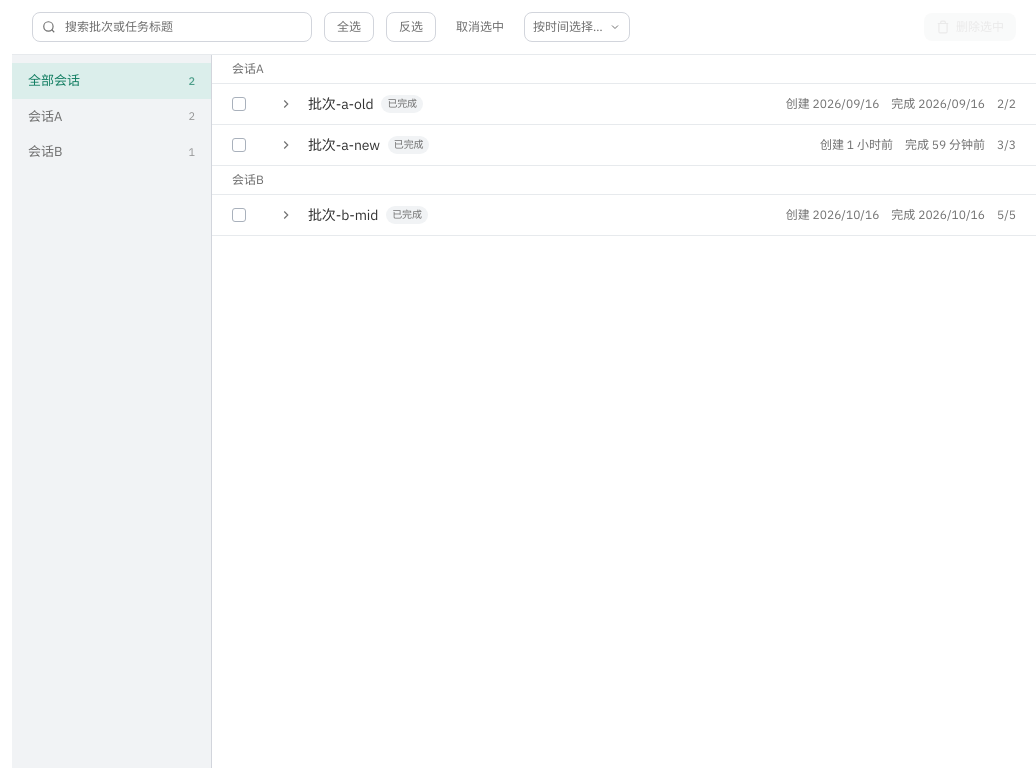
Test: TaskHistoryDialog 删除范围选择 › 取消选中 = 清空全部选中（含当前不可见的会话）
This screenshot has width=1036, height=768.
Expected: the button "全选" is shown, 324,12 -> 374,42
What coordinates should you click on to do the following:
click the button "会话A 2"
I would click on:
 (112, 116)
Its box is 12,98 -> 211,134.
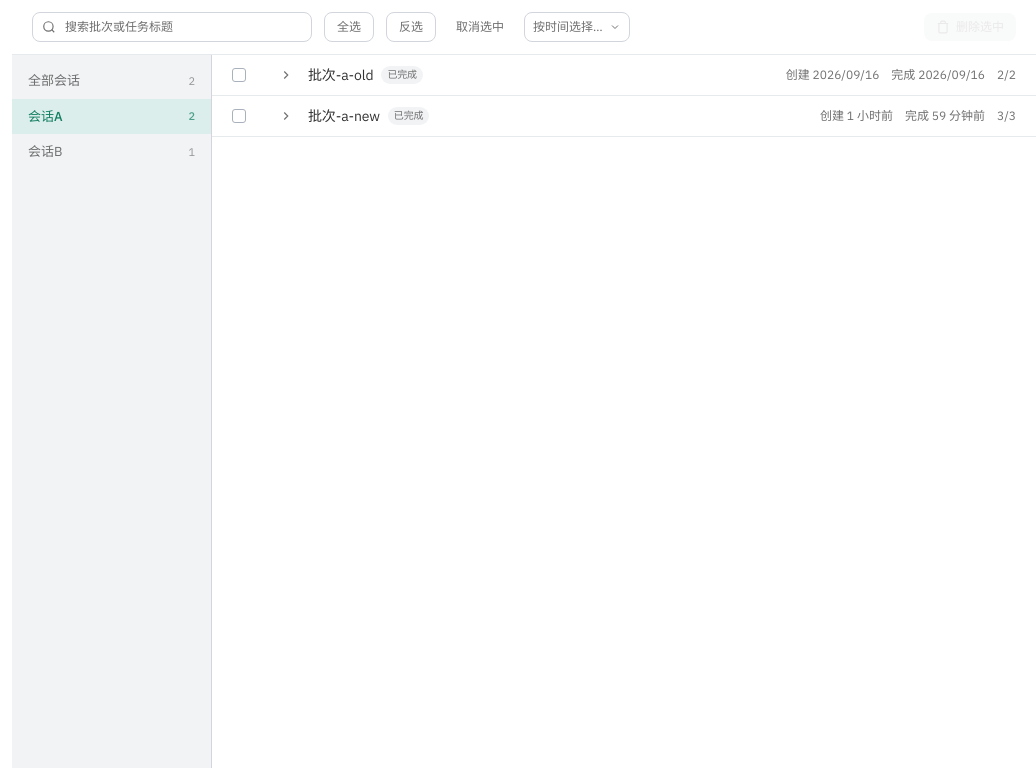
What coordinates should you click on to do the following:
click the button "全选"
I would click on:
 (349, 27)
Its box is 324,12 -> 374,42.
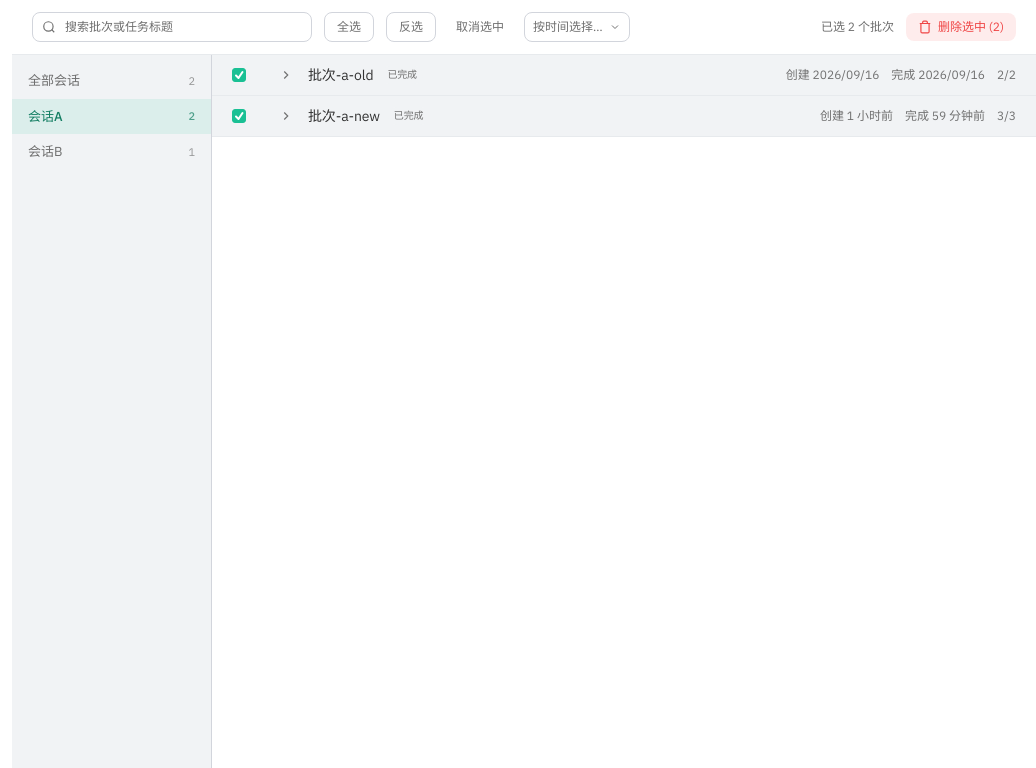
Result: the text "已选 2 个批次" is shown at 821,19 -> 894,35
What coordinates should you click on to do the following:
click the button "会话B 1"
I would click on:
 (112, 152)
Its box is 12,134 -> 211,170.
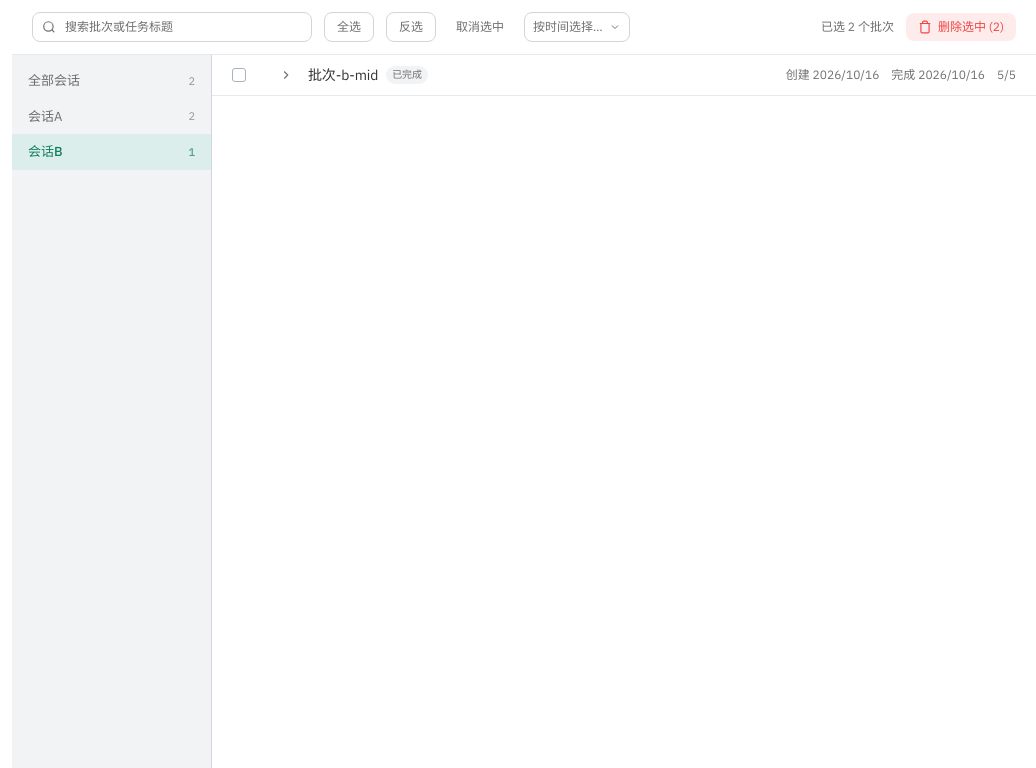
Result: the text "已选 2 个批次" is shown at 821,19 -> 894,35
Result: the text "批次-a-old" is gone
Result: the text "批次-b-mid" is shown at 308,66 -> 378,84
What coordinates should you click on to do the following:
click the button "取消选中"
I would click on:
 (480, 27)
Its box is 448,13 -> 512,41.
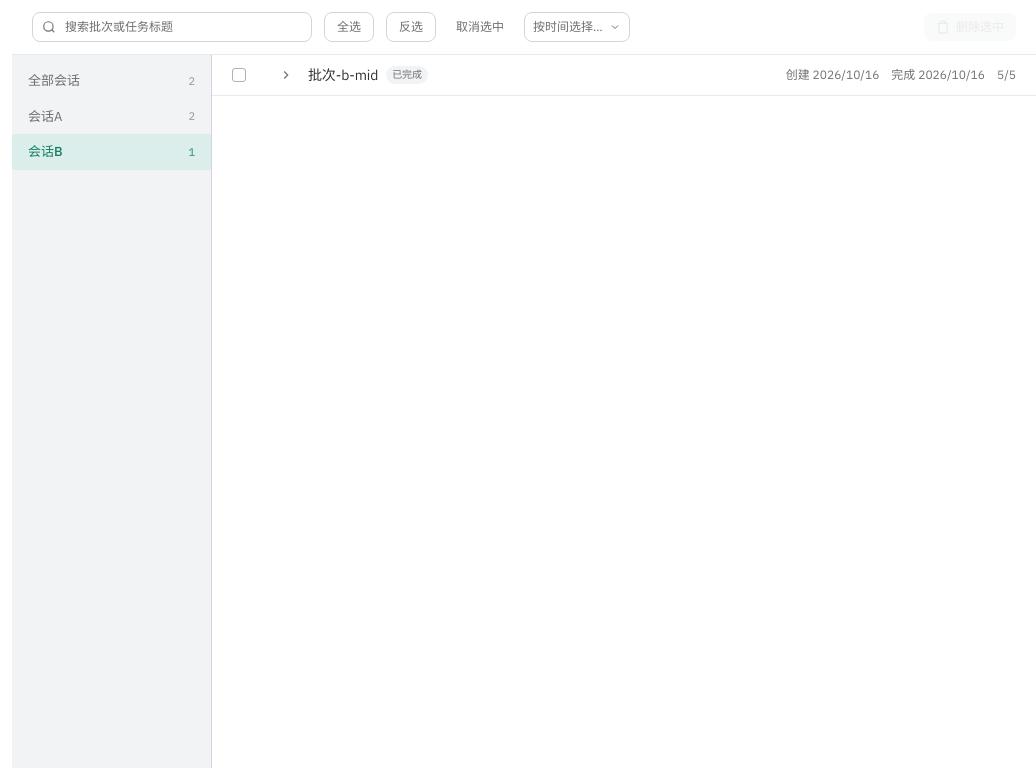
Result: the text "已选 " is gone
What coordinates should you click on to do the following:
click the button "全部会话 2"
I would click on:
 (112, 81)
Its box is 12,63 -> 211,98.
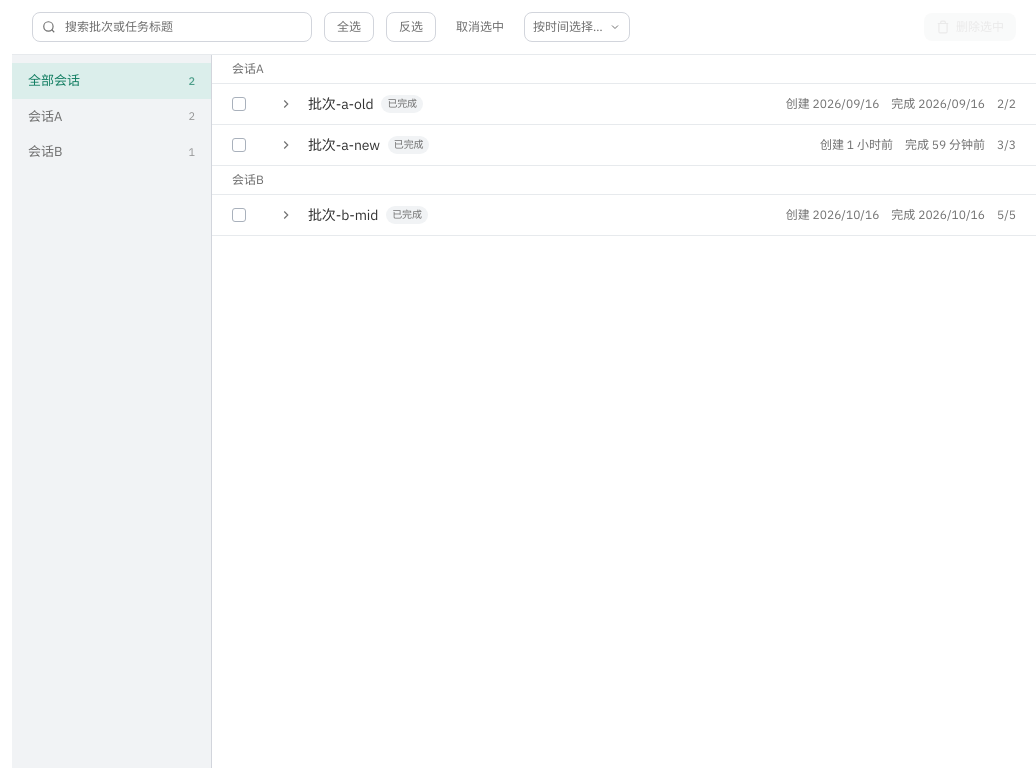
Result: the text "批次-a-old" is shown at 308,94 -> 373,114
Result: the checkbox next to "批次-a-old" is not checked at 232,97 -> 246,111
Result: the text "批次-a-new" is shown at 308,136 -> 380,154
